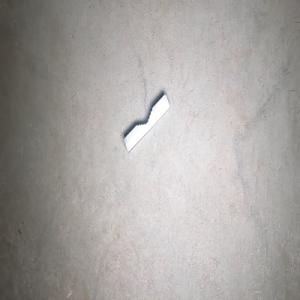ClampPart: (123, 93, 171, 153)
